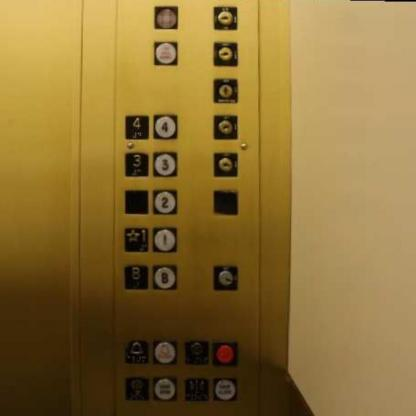1: (150, 225, 178, 254)
2: (151, 189, 178, 215)
3: (150, 151, 178, 177), (123, 151, 150, 177)
4: (152, 112, 178, 140), (123, 113, 149, 140)
B: (122, 263, 150, 290), (151, 263, 178, 290)
alarm: (123, 338, 150, 366), (152, 338, 179, 366)
close: (183, 376, 210, 402)
empty: (212, 188, 239, 214), (123, 188, 150, 214)
keyhole: (211, 40, 238, 66), (211, 77, 238, 103), (211, 114, 238, 140), (211, 150, 238, 176), (212, 264, 239, 290), (211, 5, 238, 30)
open: (124, 375, 150, 401)
s1: (122, 225, 150, 254)
stop: (183, 338, 210, 366), (211, 340, 238, 368)
text_blur: (211, 375, 239, 403), (152, 374, 178, 402), (152, 40, 178, 66), (153, 3, 178, 30)
